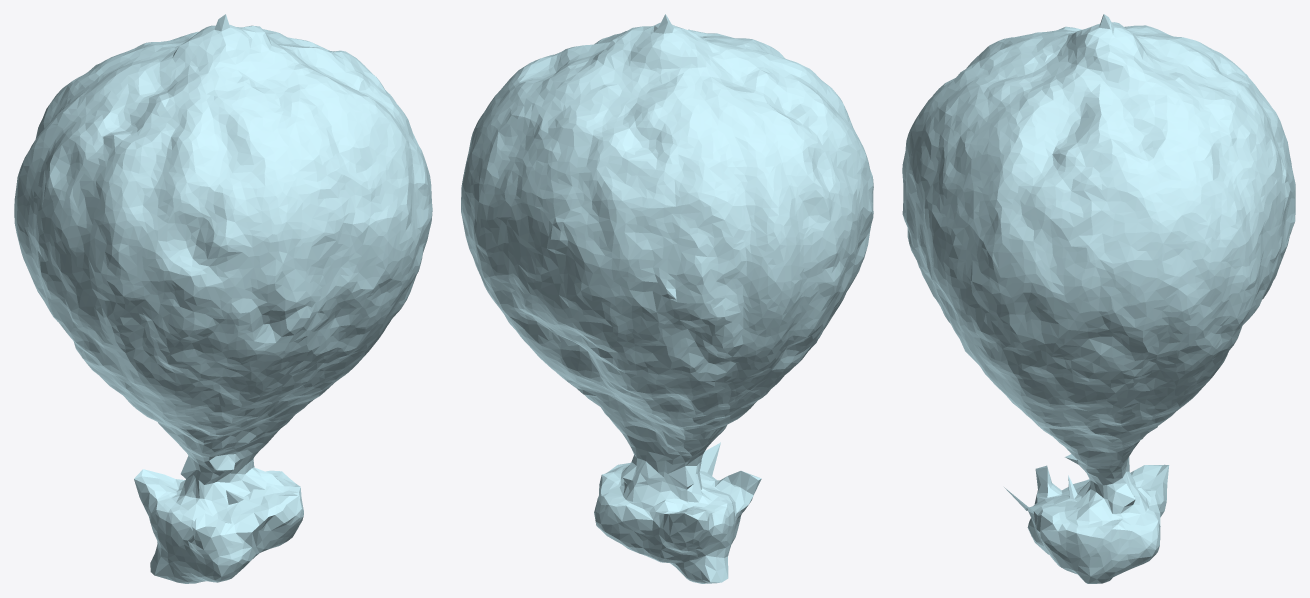
File: balloon-scribble.glb
The picture shows the model from 3 angles, left to right: view 1: azimuth 30°, elevation 25°; view 2: azimuth 150°, elevation 25°; view 3: azimuth 270°, elevation 25°; orthographic projection. The views are drawn at different scales.
Visible parts, largest first — view 1: extracted_mesh; view 2: extracted_mesh; view 3: extracted_mesh.
Part boxes in pixels (x1=…): extracted_mesh: x1=14, y1=14, x2=432, y2=583; extracted_mesh: x1=461, y1=14, x2=873, y2=583; extracted_mesh: x1=902, y1=14, x2=1295, y2=583.
Bounding box in the file's own units: 0.7014 × 1.04 × 0.6522.
Materials: 1 (1 with a texture image).
